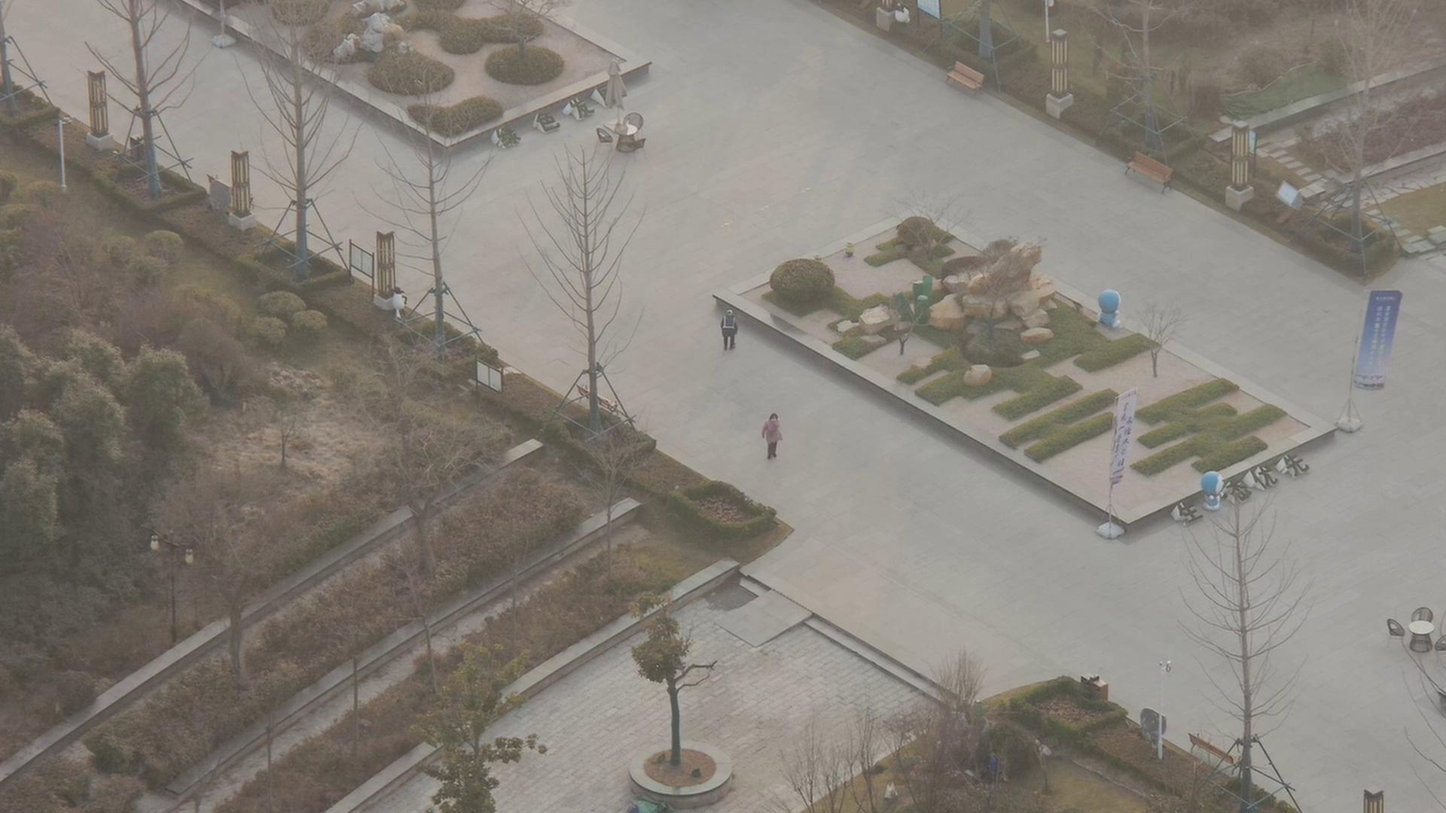human: (715, 285, 747, 353), (761, 397, 790, 461)
